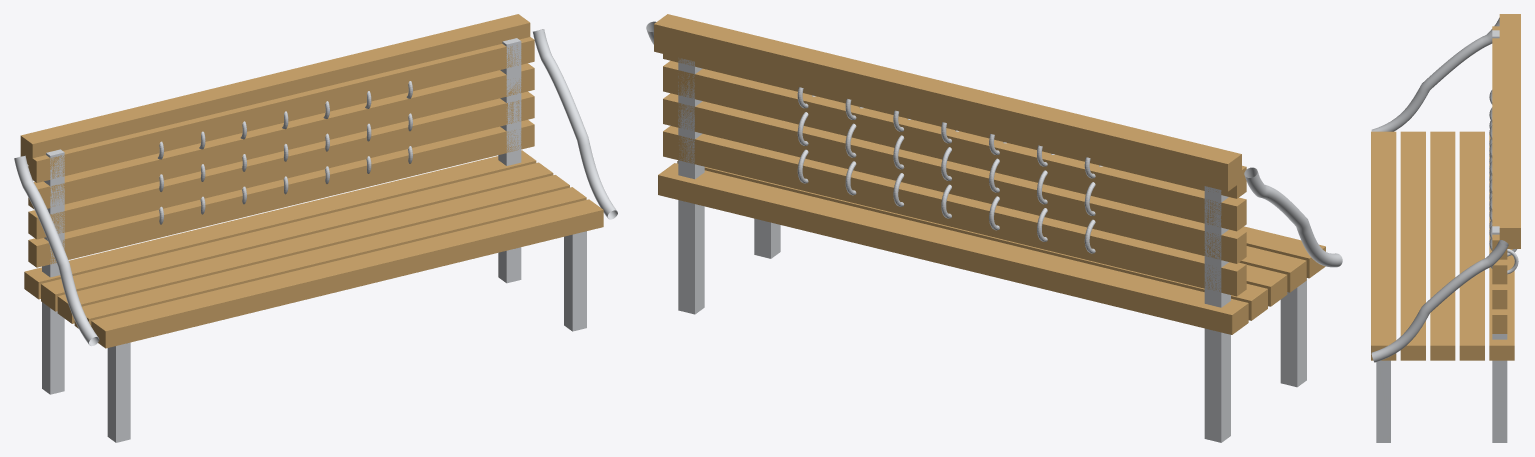
3 views of the same model, side by side, from view 1: azimuth 30°, elevation 25°; view 2: azimuth 150°, elevation 25°; view 3: azimuth 270°, elevation 25° (orthographic). The views are drawn at different scales.
Visible parts, largest first — view 1: Cube, Cube.007, Cube.006, Cube.008, Cube.005, Cube.009, Cube.003, Cube.002, Cube.001, Cube.004, Cube.012, Cube.013 (+4 smaller); view 2: Cube.005, Cube.004, Cube.006, Cube.008, Cube.007, Cube.012, Cube.013, Cube.009, Cube.003, Cube.010, BézierCurve, Cube (+3 smaller); view 3: Cube, Cube.003, Cube.002, Cube.001, Cube.005, BézierCurve.001, Cube.009, BézierCurve, Cube.004, Cube.013, Cube.011, Cube.007 (+2 smaller).
Boxes of the visible parts, left/top/right/bottom form: Cube: left=91, top=199, right=603, bottom=348; Cube.007: left=28, top=91, right=534, bottom=239; Cube.006: left=28, top=120, right=534, bottom=267; Cube.008: left=28, top=63, right=534, bottom=208; Cube.005: left=20, top=14, right=530, bottom=167; Cube.009: left=28, top=37, right=534, bottom=182; Cube.003: left=41, top=162, right=553, bottom=311; Cube.002: left=57, top=175, right=569, bottom=323; Cube.001: left=74, top=187, right=586, bottom=328; Cube.004: left=24, top=150, right=536, bottom=299; Cube.012: left=42, top=149, right=64, bottom=394; Cube.013: left=498, top=38, right=521, bottom=283; Cube.005: left=654, top=14, right=1241, bottom=191; Cube.004: left=658, top=163, right=1248, bottom=334; Cube.006: left=663, top=126, right=1246, bottom=296; Cube.008: left=663, top=60, right=1246, bottom=231; Cube.007: left=663, top=93, right=1246, bottom=263; Cube.012: left=1204, top=186, right=1230, bottom=442; Cube.013: left=678, top=58, right=704, bottom=314; Cube.009: left=663, top=54, right=1246, bottom=198; Cube.003: left=677, top=160, right=1267, bottom=320; Cube.010: left=1280, top=278, right=1306, bottom=387; BézierCurve: left=1244, top=167, right=1342, bottom=267; Cube: left=1239, top=226, right=1325, bottom=278; Cube: left=1371, top=131, right=1396, bottom=360; Cube.003: left=1459, top=131, right=1484, bottom=360; Cube.002: left=1430, top=131, right=1455, bottom=360; Cube.001: left=1400, top=131, right=1425, bottom=360; Cube.005: left=1499, top=14, right=1520, bottom=248; BézierCurve.001: left=1371, top=240, right=1508, bottom=362; Cube.009: left=1492, top=26, right=1507, bottom=259; BézierCurve: left=1371, top=17, right=1499, bottom=131; Cube.004: left=1489, top=133, right=1514, bottom=360; Cube.013: left=1492, top=226, right=1507, bottom=442; Cube.011: left=1376, top=360, right=1390, bottom=442; Cube.007: left=1492, top=284, right=1507, bottom=309.
Bounding box in the file's own units: 2.55 × 1.16 × 0.71.
